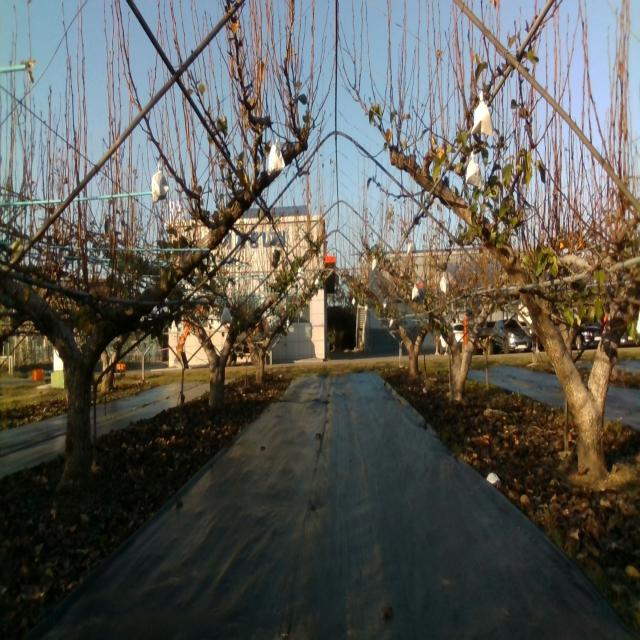pearbags: (470, 90, 495, 135), (151, 164, 169, 204), (465, 151, 483, 190), (268, 139, 286, 178), (265, 228, 278, 246), (221, 304, 232, 324)
